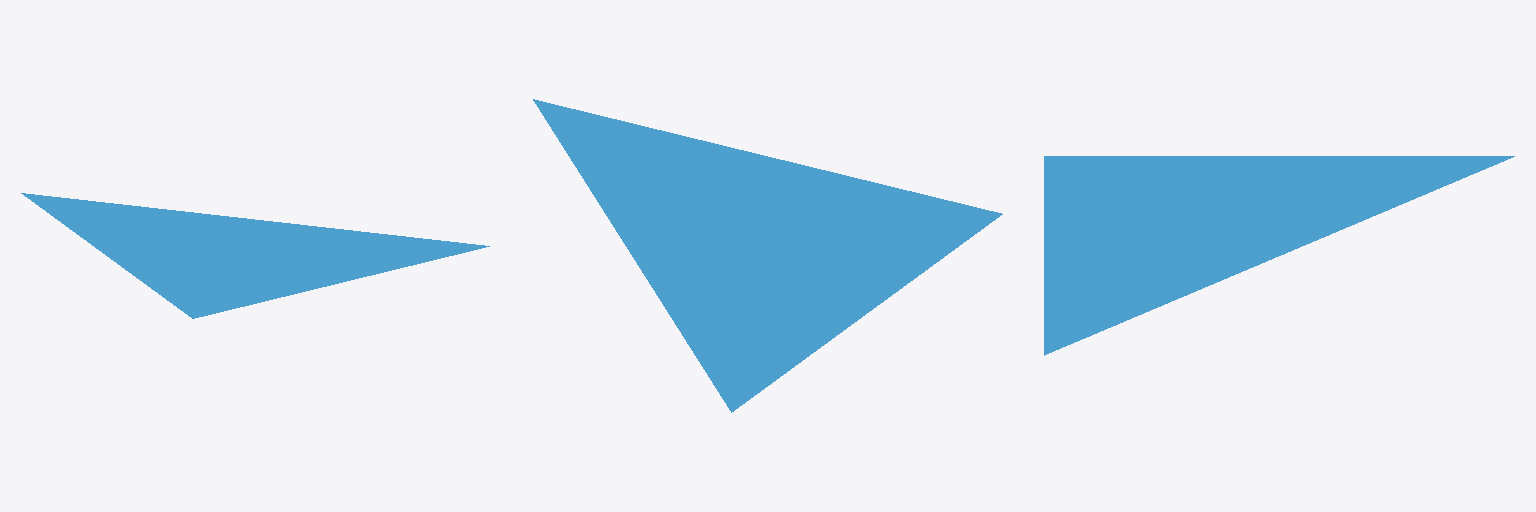
The robot description file, URDF, robot "meios_example_description":
<?xml version="1.0"?>
<robot name="meios_example_description">
  <link name="base_link"/>

  <link name="upper_link">
    <visual>
      <origin xyz="0 0 0" rpy="0 0 0"/>
      <geometry>
        <mesh filename="package://meios_example_description/meshes/link.stl" scale="1 1 1"/>
      </geometry>
    </visual>
  </link>

  <joint name="base_to_upper" type="revolute">
    <parent link="base_link"/>
    <child link="upper_link"/>
    <origin xyz="0 0 0.25" rpy="0 0 0"/>
    <axis xyz="0 0 1"/>
    <limit lower="-1.57" upper="1.57" effort="10" velocity="1"/>
  </joint>
</robot>

--- Render facts (derived) ---
Views: 3 orthographic renders of the robot side by side, from view 1: azimuth 30°, elevation 25°; view 2: azimuth 150°, elevation 25°; view 3: azimuth 270°, elevation 25°.
Model meios_example_description with 2 links and 1 joints (1 revolute), rooted at base_link, posed all joints at 0.
Visible links, largest first — view 1: upper_link; view 2: upper_link; view 3: upper_link.
Link boxes in pixels (bbox=[...]): upper_link: bbox=[21, 193, 489, 318]; upper_link: bbox=[533, 99, 1002, 412]; upper_link: bbox=[1044, 156, 1514, 355].
Size in the robot's own frame: 1 by 1 by 0 metres.
1 mesh visuals loaded from 1 distinct referenced files (1 ASCII STL).
